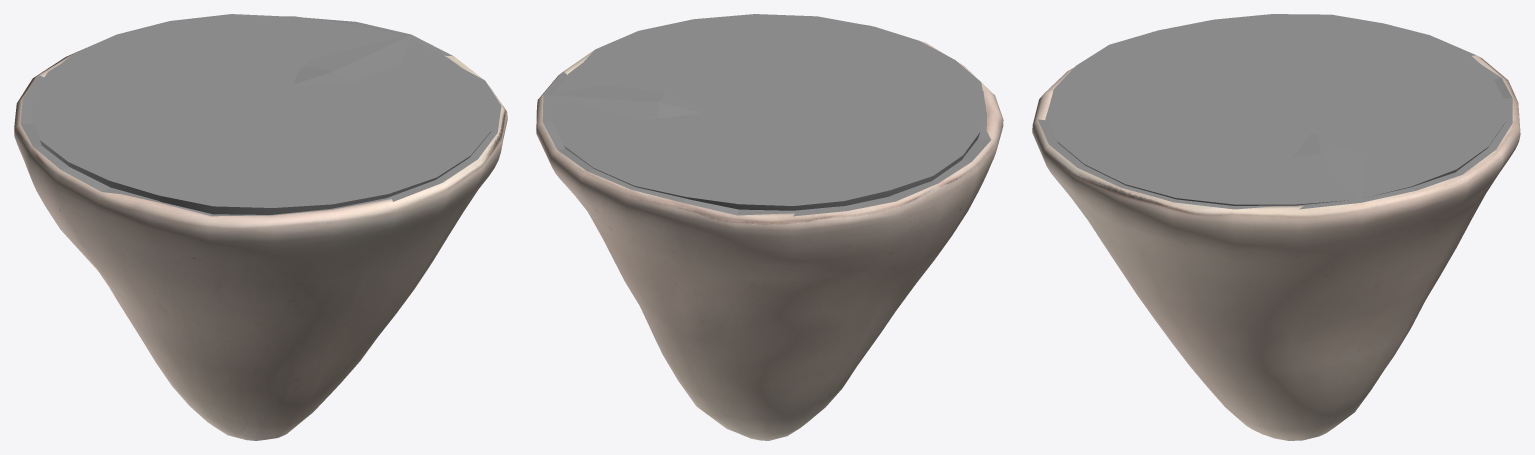
3 views of the same model, side by side, from view 1: azimuth 30°, elevation 25°; view 2: azimuth 150°, elevation 25°; view 3: azimuth 270°, elevation 25° (orthographic). The views are drawn at different scales.
Visible parts, largest first — view 1: Object101, 101, 102; view 2: Object101, 101, 102; view 3: Object101, 101, 102.
Part boxes in pixels (x1=…): Object101: x1=31, y1=16, x2=494, y2=214; 101: x1=14, y1=37, x2=507, y2=440; 102: x1=20, y1=14, x2=501, y2=216; Object101: x1=551, y1=15, x2=985, y2=210; 101: x1=536, y1=27, x2=1003, y2=440; 102: x1=542, y1=14, x2=990, y2=216; Object101: x1=1047, y1=14, x2=1505, y2=205; 101: x1=1032, y1=55, x2=1520, y2=440; 102: x1=1038, y1=39, x2=1512, y2=209.
Size of the model in its own units: 92.11 by 69.58 by 93.38.
2 materials, 1 textured.
